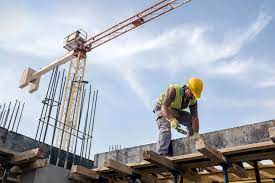arm: (156, 84, 183, 129)
glove: (168, 116, 179, 129)
helmet: (185, 74, 205, 98)
human: (155, 73, 205, 153)
vest: (161, 84, 188, 117)
